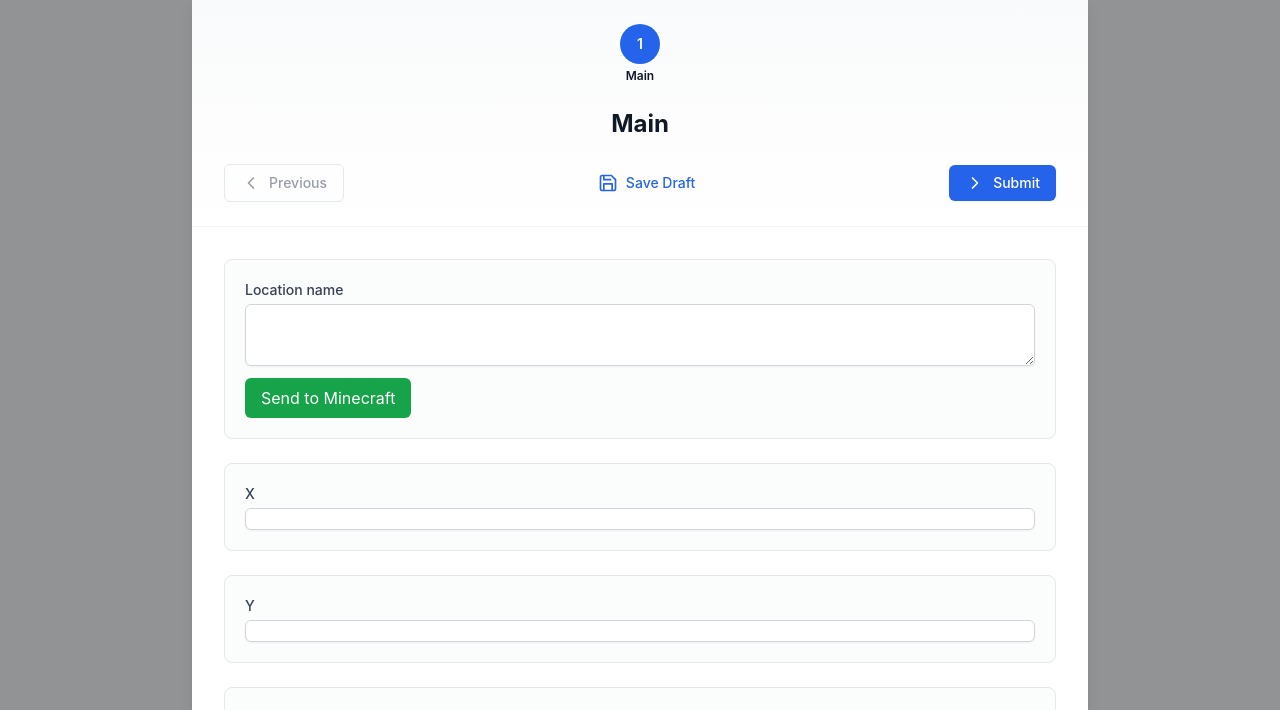
Test: A world task inherited by a child Location form (KNG-134, spec §2.3) › fills Name, X, Y, Z and World from the capture instead of writing it all into Name
expect the text "Location name" is shown: met, box [245,281,344,298]
Click the button with id "worldtask-action-0-Name" at (328,398), box [245,378,411,418]
(page scrolled)
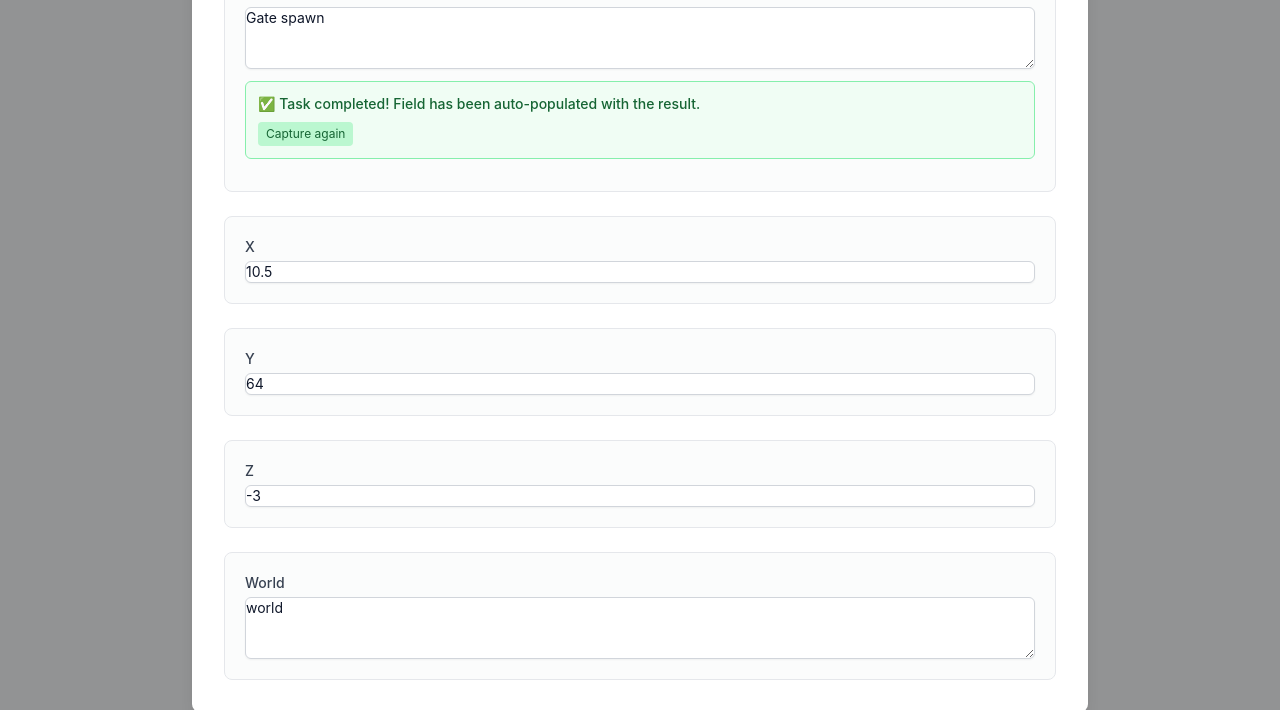
expect the text box showing "Gate spawn" below "Location name" is shown: met, box [245,7,1035,69]
expect the 1st number field showing "10.5" is shown: met, box [245,261,1035,283]
expect the 2nd number field showing "64" is shown: met, box [245,373,1035,395]
